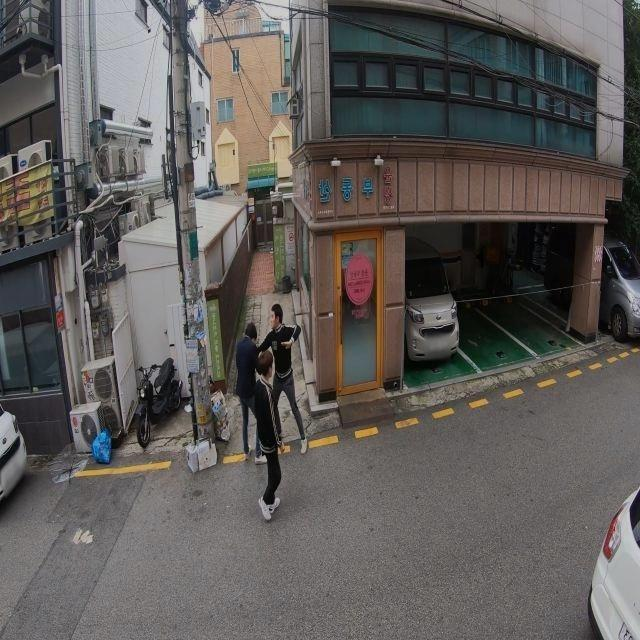fight: (232, 303, 310, 465)
non-fight: (248, 347, 287, 525)
